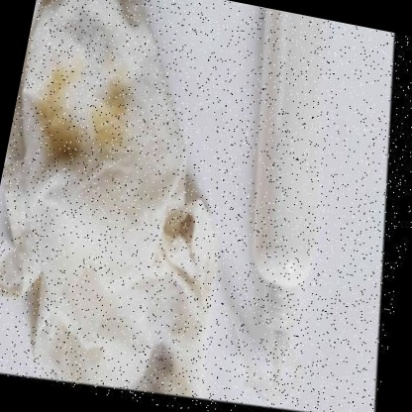coffee: (40, 67, 76, 116), (96, 92, 130, 142), (46, 121, 80, 161)
